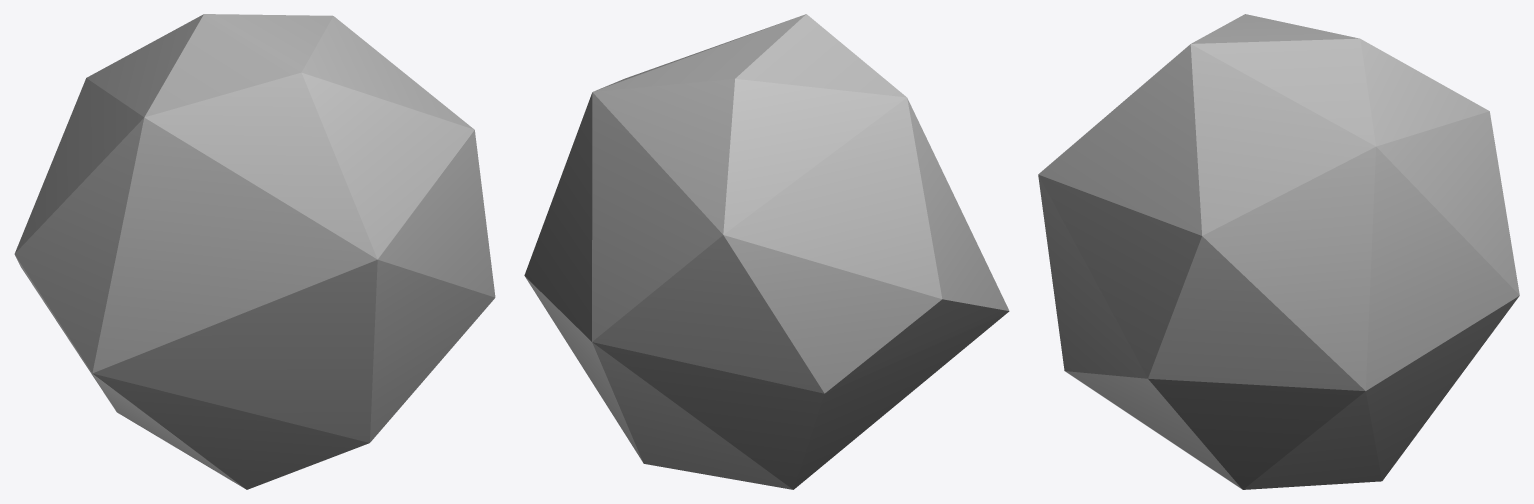
Rendered from smoke.fbx.
The picture shows the model from 3 angles, left to right: view 1: azimuth 30°, elevation 25°; view 2: azimuth 150°, elevation 25°; view 3: azimuth 270°, elevation 25°; orthographic projection.
Visible parts, largest first — view 1: smoke; view 2: smoke; view 3: smoke.
Part boxes in pixels (left/top/right/bottom): smoke: left=14, top=14, right=495, bottom=489; smoke: left=524, top=14, right=1009, bottom=489; smoke: left=1038, top=14, right=1519, bottom=489.
Size of the model in its own units: 453 by 433 by 459.
